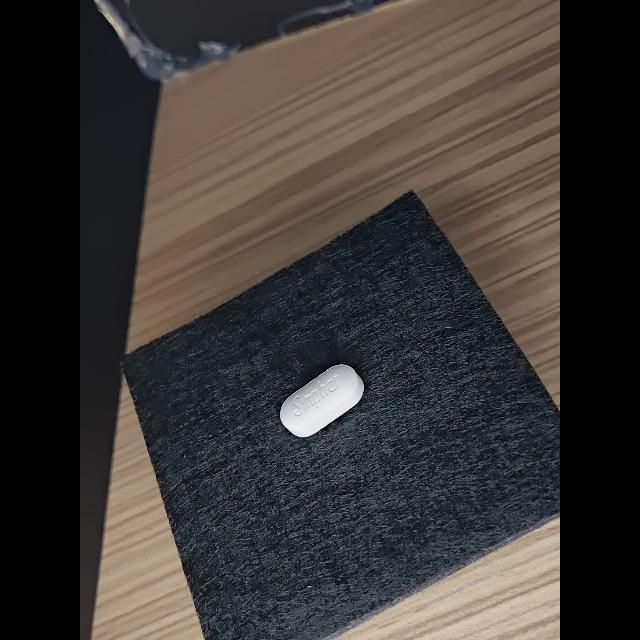Intact Pill: (280, 364, 364, 437)
